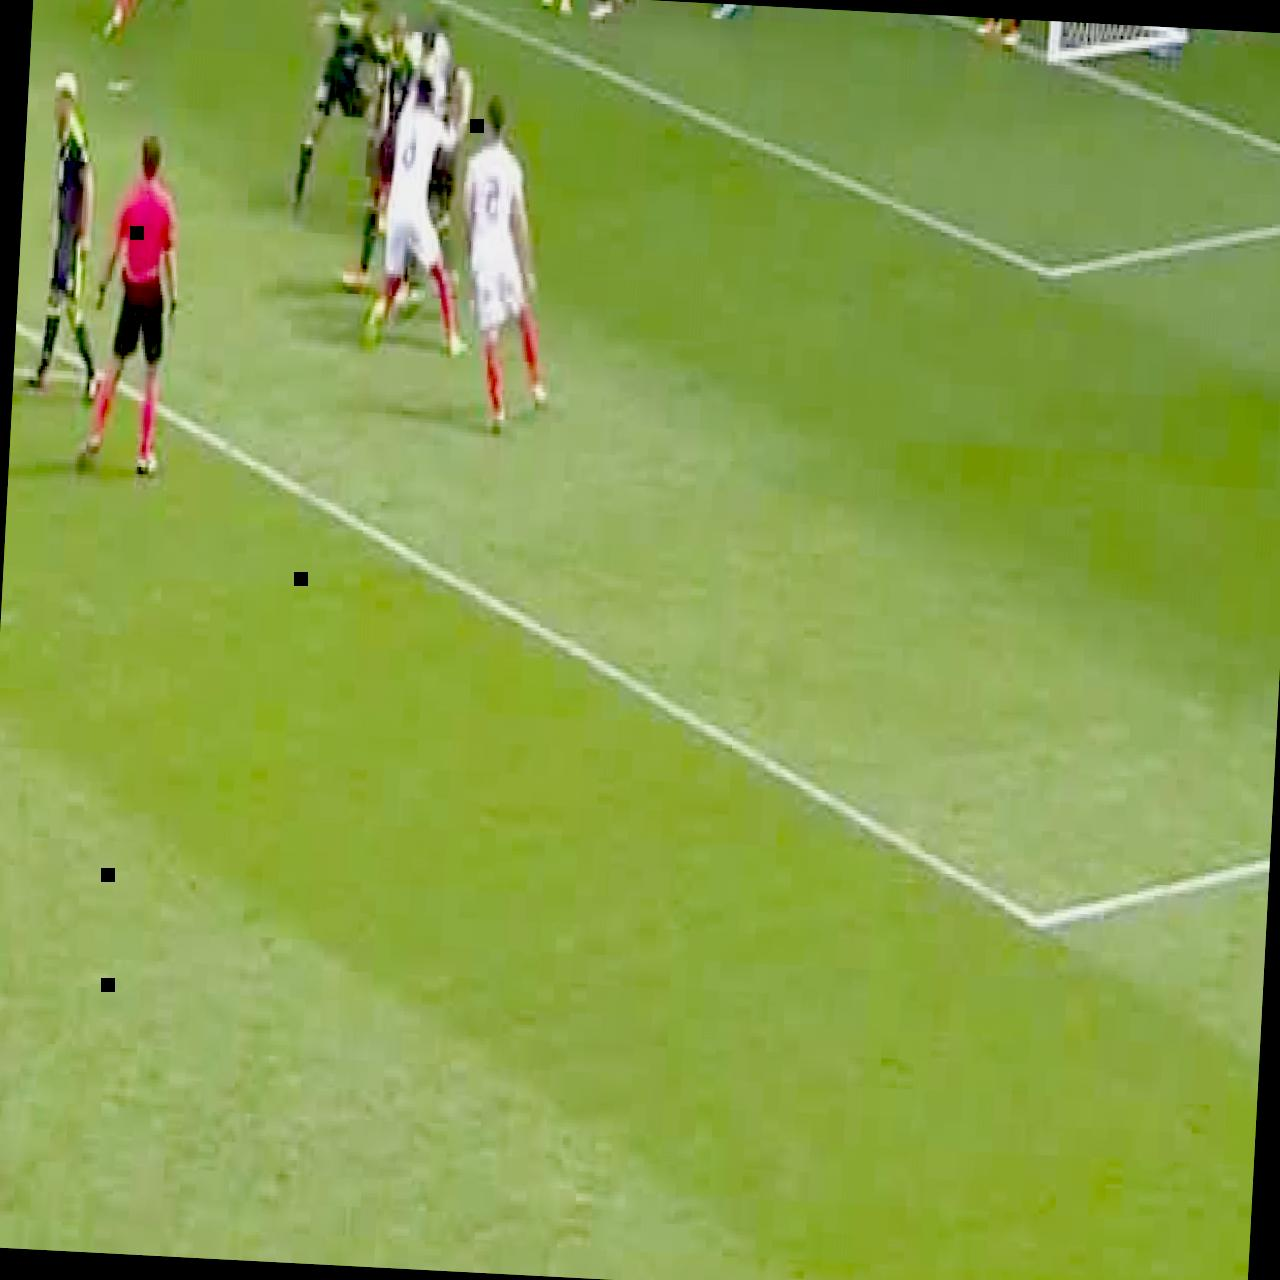football: (450, 100, 563, 440), (84, 128, 187, 476), (27, 69, 115, 398), (379, 74, 478, 353), (291, 1, 388, 212), (344, 12, 415, 296), (391, 31, 457, 304), (103, 0, 177, 45), (976, 16, 1051, 49), (579, 0, 638, 21), (710, 3, 754, 20), (540, 0, 599, 12)
